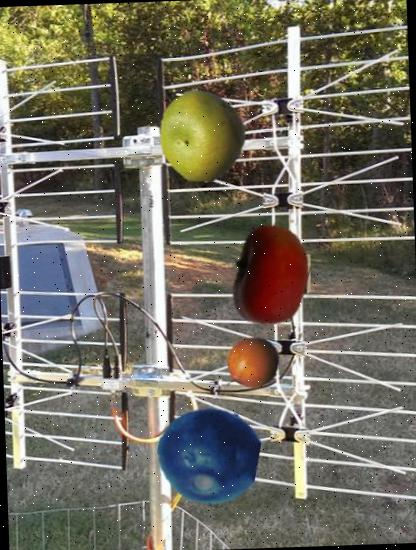Granadilla: (214, 332, 286, 404)
Huckleberry: (156, 404, 261, 508)
Nectarine: (218, 222, 325, 329)
Pomelo: (154, 88, 252, 184)
